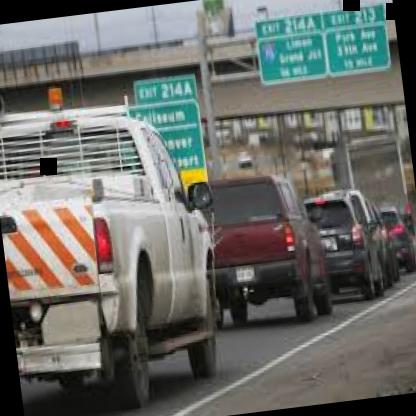car: (0, 65, 269, 416), (188, 149, 341, 351), (295, 169, 400, 322)
